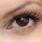eye: (16, 17, 29, 27)
